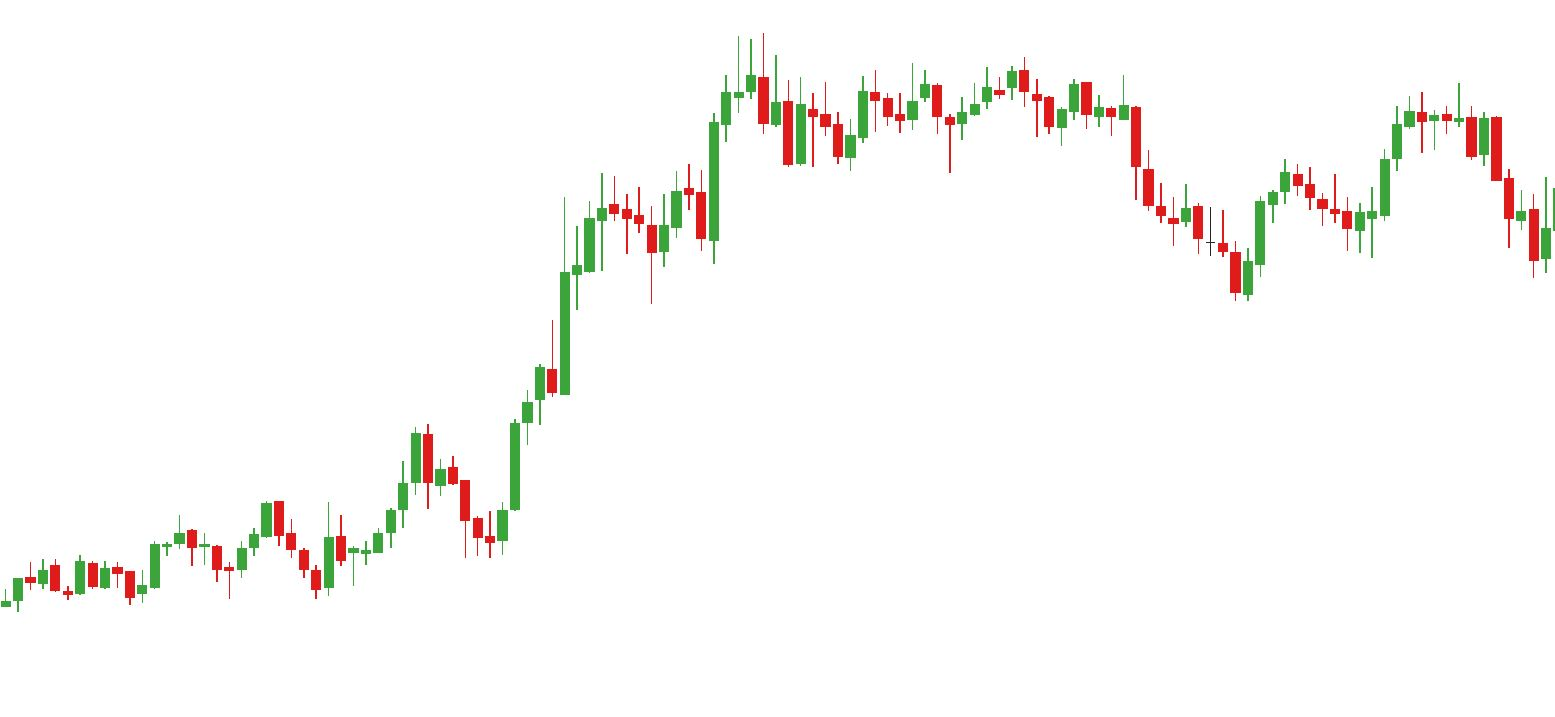buy: (382, 474, 508, 563), (222, 535, 335, 601)
